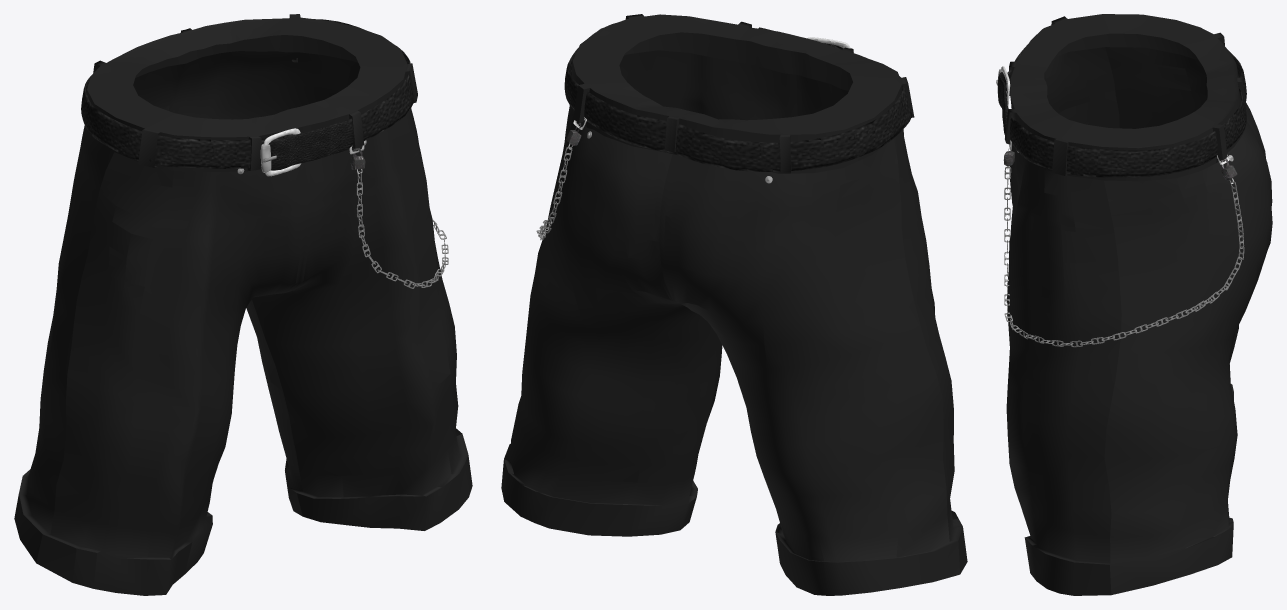
The model's file is elvs-male-trouser-short-1.glb.
The picture shows the model from 3 angles, left to right: view 1: azimuth 30°, elevation 25°; view 2: azimuth 150°, elevation 25°; view 3: azimuth 270°, elevation 25°; orthographic projection. The views are drawn at different scales.
Visible parts, largest first — view 1: male trouser short; view 2: male trouser short; view 3: male trouser short.
Part boxes in pixels (left/top/right/bottom): male trouser short: left=14, top=14, right=472, bottom=595; male trouser short: left=501, top=14, right=967, bottom=595; male trouser short: left=996, top=14, right=1272, bottom=595.
Size of the model in its own units: 45.94 by 46.87 by 26.95.
1 material, 1 textured.
